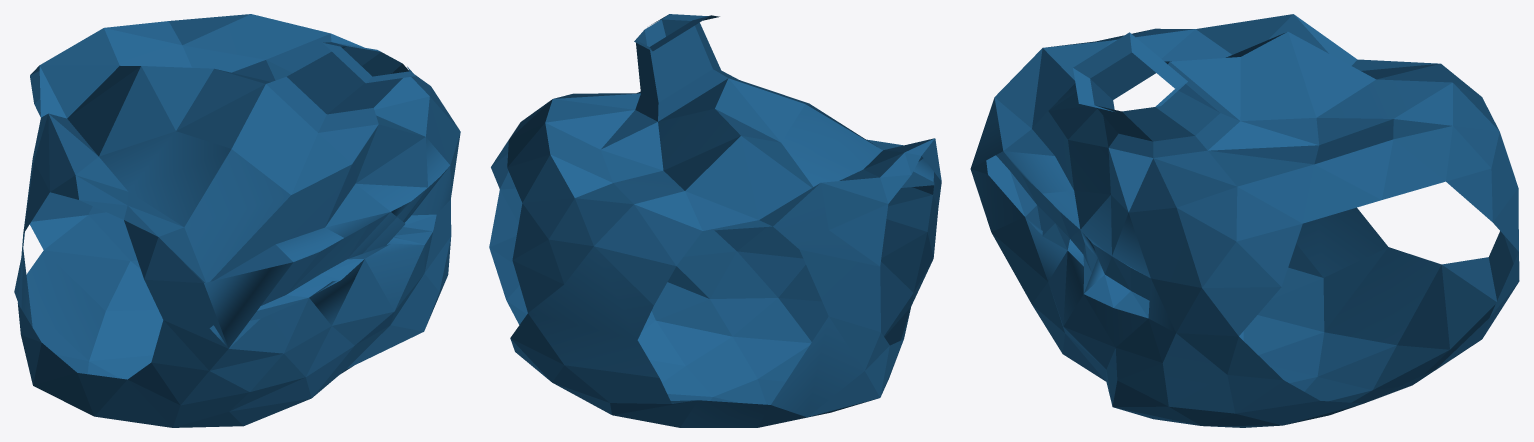
Rendered from Room1.obj.
The picture shows the model from 3 angles, left to right: view 1: azimuth 30°, elevation 25°; view 2: azimuth 150°, elevation 25°; view 3: azimuth 270°, elevation 25°; orthographic projection. The views are drawn at different scales.
Parts seen in each view (by area): view 1: Room1_1, Room1_0; view 2: Room1_1, Room1_0; view 3: Room1_1, Room1_0.
Part boxes in pixels (x1,y1,x2,y2): Room1_1: (17, 14, 460, 427); Room1_0: (14, 99, 290, 360); Room1_1: (489, 14, 941, 427); Room1_0: (528, 103, 882, 427); Room1_1: (970, 14, 1519, 427); Room1_0: (1048, 83, 1518, 345).
Bounding box in the file's own units: 23.47 × 19.29 × 24.59.
